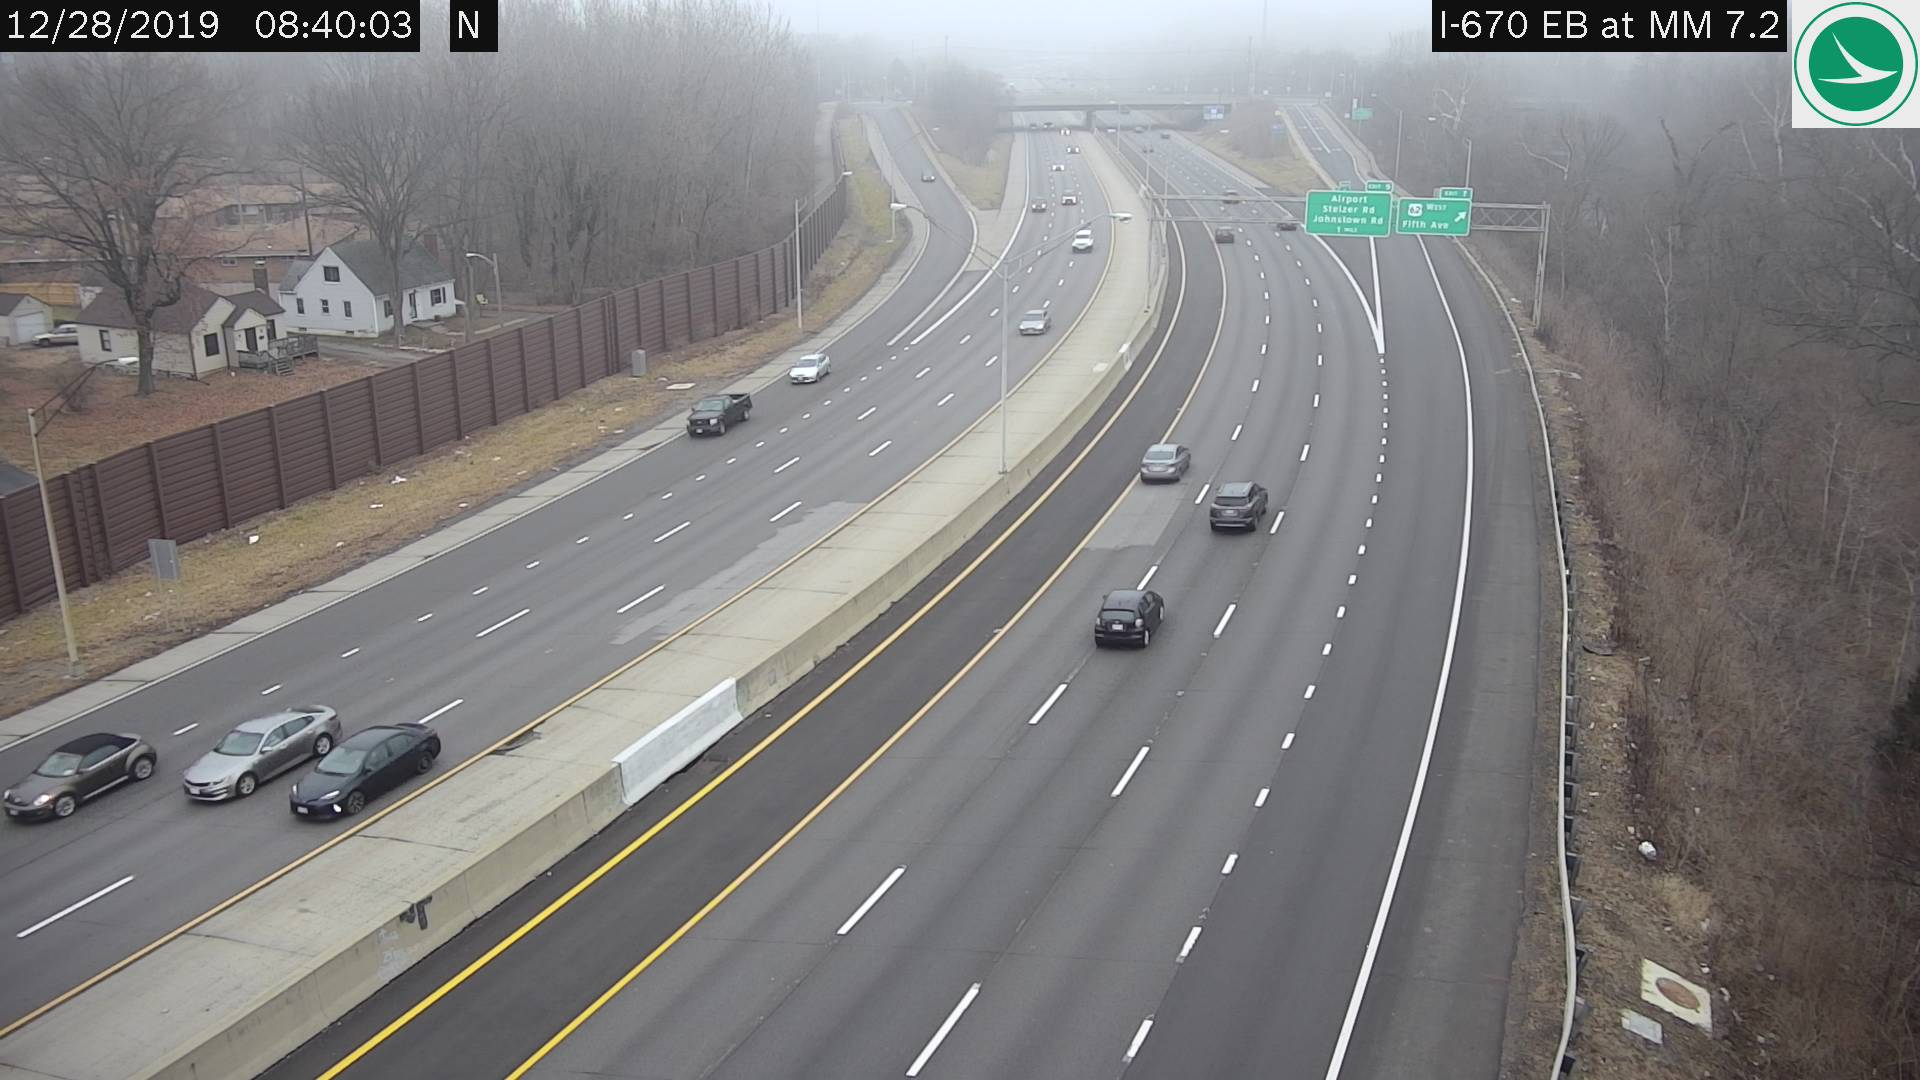car: (290, 720, 442, 820), (182, 704, 338, 800), (7, 732, 158, 824), (1095, 588, 1170, 644), (686, 388, 750, 436), (1211, 480, 1270, 531), (1138, 444, 1189, 480), (786, 348, 829, 384), (1018, 309, 1046, 332), (1069, 225, 1091, 253), (1275, 215, 1296, 229), (1212, 224, 1230, 239), (1059, 189, 1073, 203), (1029, 196, 1040, 212)
